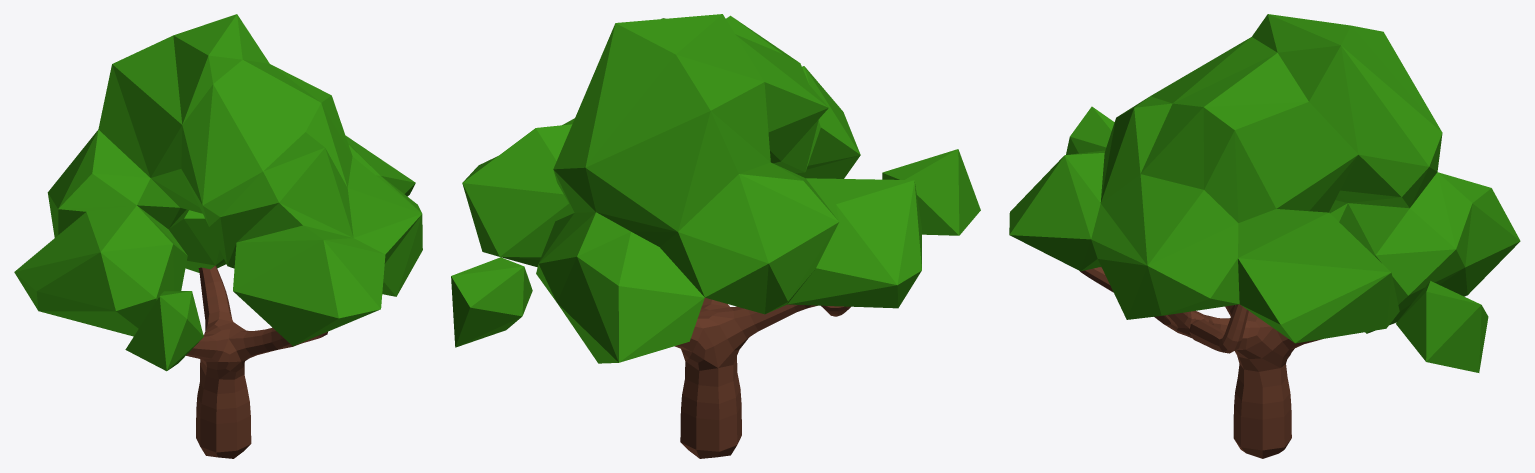
File: Tree3.fbx
The picture shows the model from 3 angles, left to right: view 1: azimuth 30°, elevation 25°; view 2: azimuth 150°, elevation 25°; view 3: azimuth 270°, elevation 25°; orthographic projection. The views are drawn at different scales.
Visible parts, largest first — view 1: Icosphere, Trunk; view 2: Icosphere, Trunk; view 3: Icosphere, Trunk.
Part boxes in pixels (x1,y1,x2,y2): Icosphere: [14, 14, 422, 371]; Trunk: [186, 265, 327, 458]; Icosphere: [451, 14, 980, 363]; Trunk: [674, 297, 850, 458]; Icosphere: [1009, 14, 1520, 372]; Trunk: [1080, 267, 1322, 458].
Size of the model in its own units: 1940 by 1914 by 2042.
